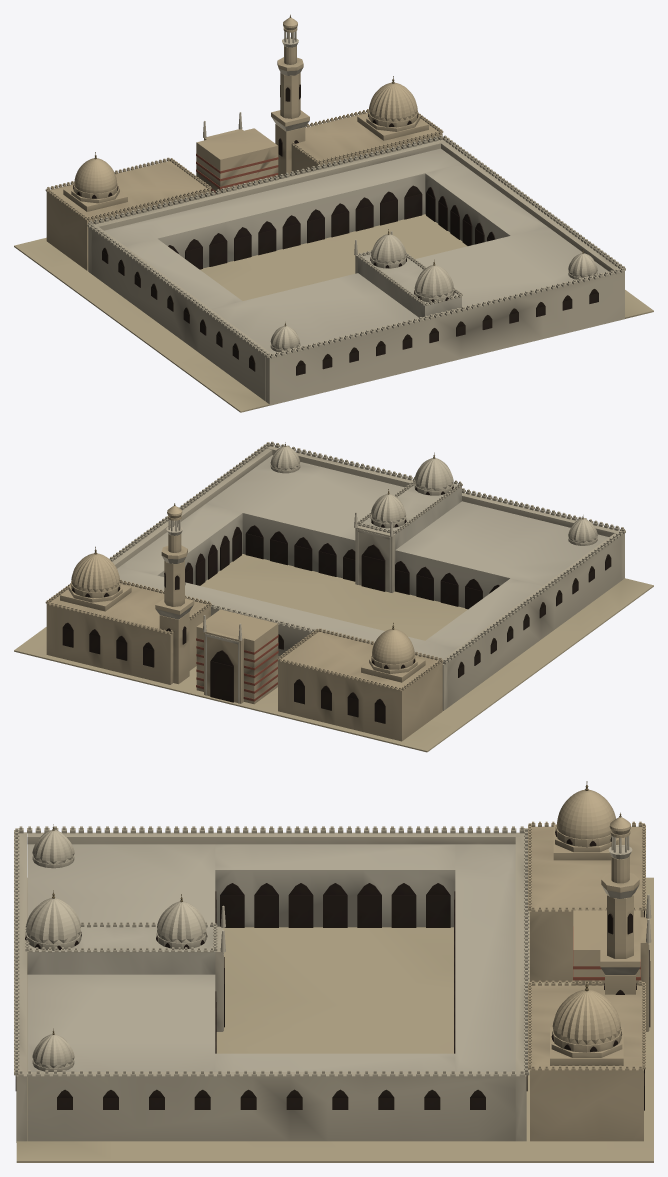
Rendered from al-azhar-1350.glb.
3 renders of one model, top to bottom at view 1: azimuth 30°, elevation 25°; view 2: azimuth 150°, elevation 25°; view 3: azimuth 270°, elevation 25°, orthographic. The views are drawn at different scales.
Parts seen in each view (by area): view 1: p0_walls, p1_arcades, p2_domes, p3_minarets; view 2: p2_domes, p1_arcades, p0_walls, p3_minarets; view 3: p0_walls, p1_arcades, p2_domes, p3_minarets.
Boxes of the visible parts, x1,y1,x2,y2 form: p0_walls: (14,135,653,412); p1_arcades: (104,148,608,353); p2_domes: (45,76,597,352); p3_minarets: (271,14,309,178); p2_domes: (45,442,597,741); p1_arcades: (117,455,608,659); p0_walls: (14,441,653,752); p3_minarets: (155,503,194,684); p0_walls: (14,826,653,1162); p1_arcades: (27,844,515,1071); p2_domes: (25,781,651,1141); p3_minarets: (600,812,640,994).
Size of the model in its own units: 100 by 40.96 by 95.4.
